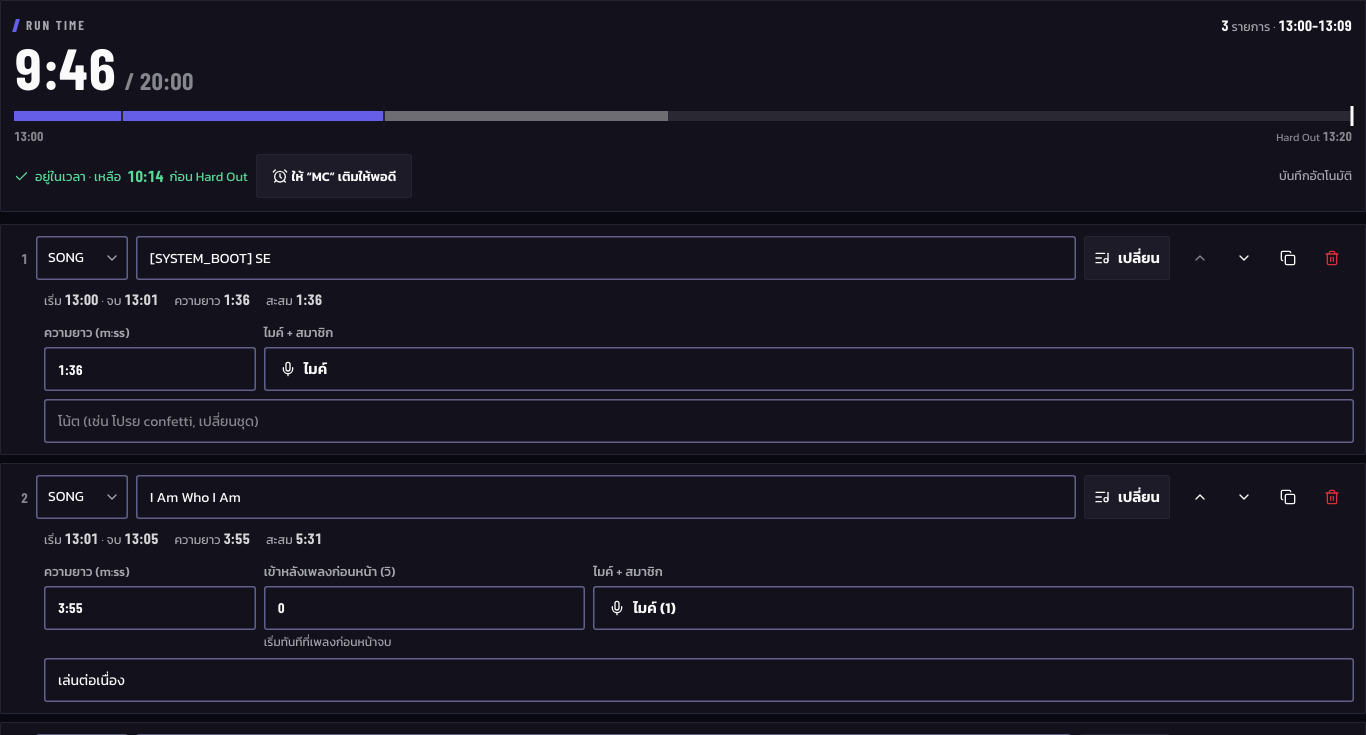
Scenario: SetlistBuilder — swap a song in place › marks the songs already in the set, without blocking them (a set can repeat one)
Click the 1st button "เปลี่ยน".
click(1127, 258)  # box [1084, 236, 1170, 280]
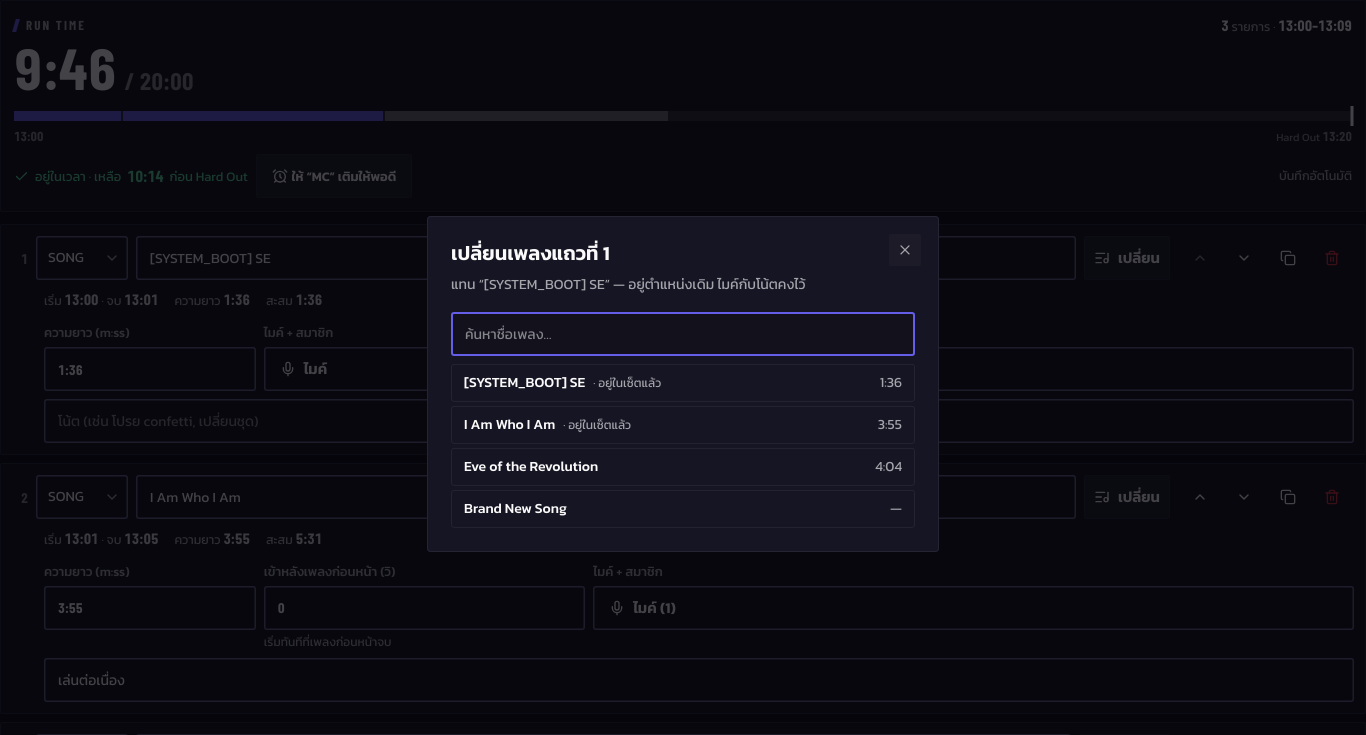
Expected: the button "Eve of the Revolution 4:04" does not show "อยู่ในเซ็ตแล้ว", [451, 448, 915, 486]
Expected: the button "I Am Who I Am· อยู่ในเซ็ตแล้ว 3:55" is shown, [451, 406, 915, 444]
Expected: the button "I Am Who I Am· อยู่ในเซ็ตแล้ว 3:55" is enabled, [451, 406, 915, 444]
